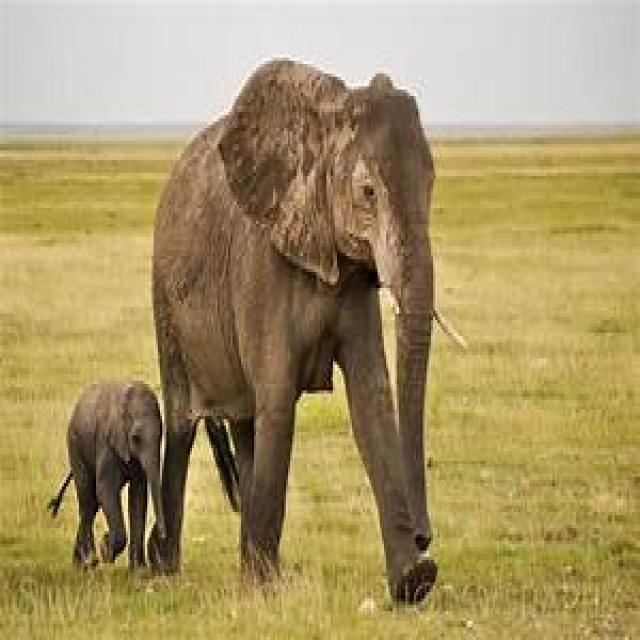elephant: (145, 61, 465, 608), (49, 381, 166, 576)
